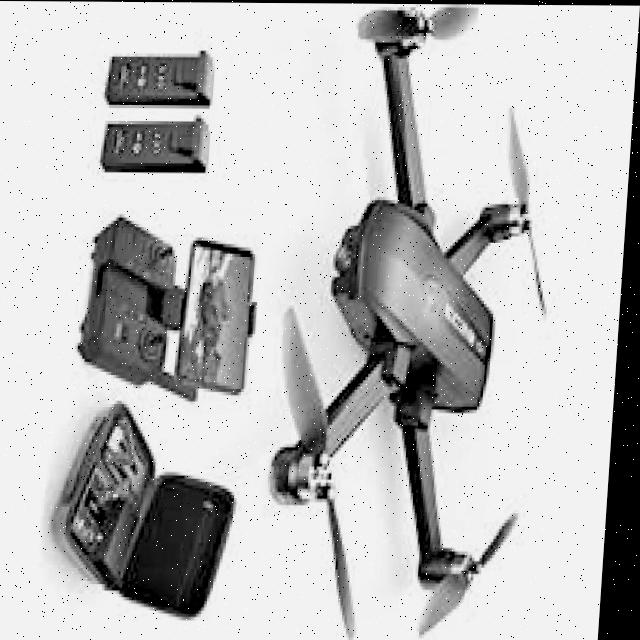drone: (264, 2, 586, 640)
